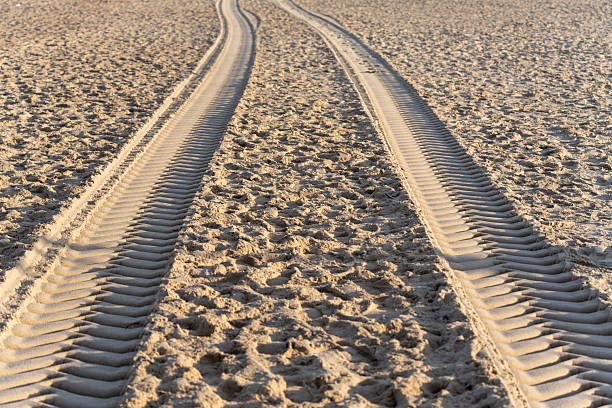vehicle_track: (276, 0, 611, 407), (0, 0, 254, 407)
